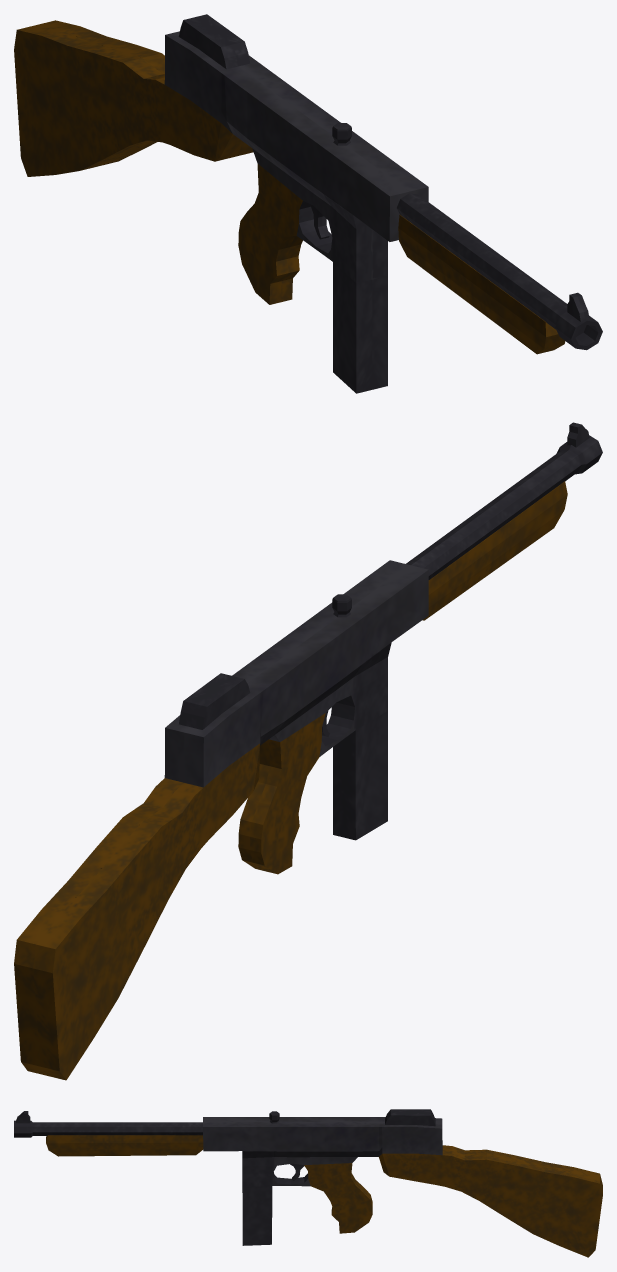
Rendered from mku_machinegun02.fbx.
The picture shows the model from 3 angles, top to bottom: view 1: azimuth 30°, elevation 25°; view 2: azimuth 150°, elevation 25°; view 3: azimuth 270°, elevation 25°; orthographic projection. The views are drawn at different scales.
Parts seen in each view (by area): view 1: tommy; view 2: tommy; view 3: tommy.
Boxes of the visible parts, box(x1,y1,x2,y2) form: tommy: box(14, 14, 602, 393); tommy: box(14, 422, 602, 1080); tommy: box(14, 1109, 602, 1257).
Size of the model in its own units: 20.3 by 132 by 500.
Materials: 1 (1 with a texture image).
